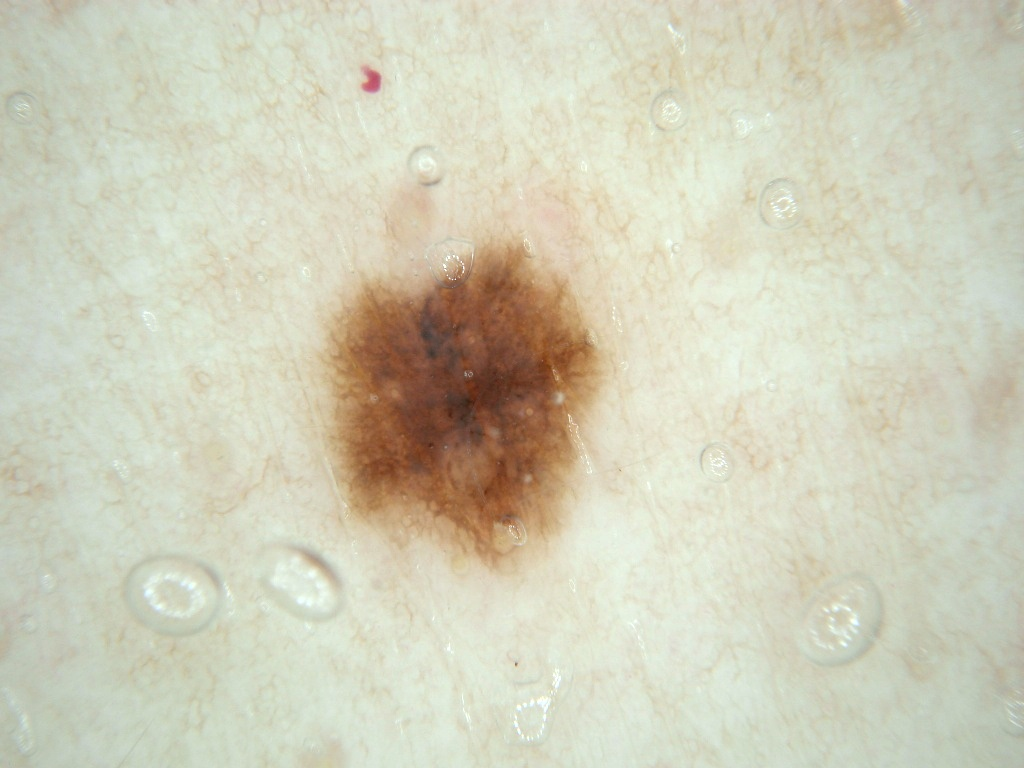Detected Lesion: (318, 225, 610, 576)
